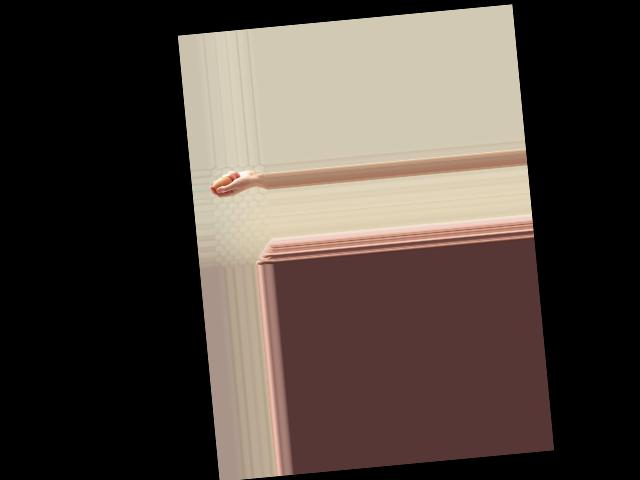egg: (212, 175, 233, 192)
